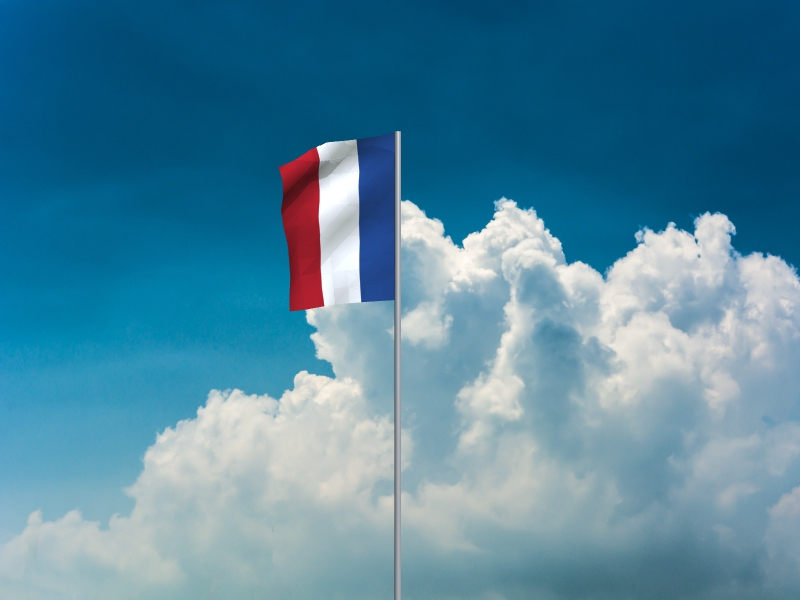nl: (278, 134, 395, 314)
